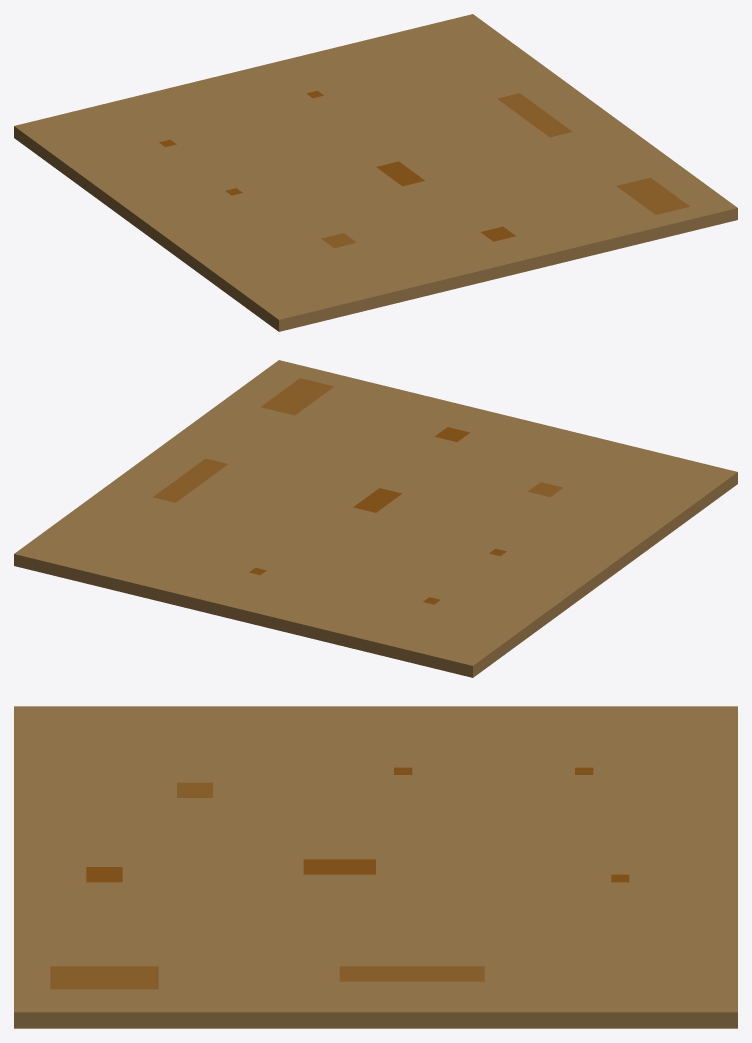
Rendered from floor_6.obj.
3 renders of one model, top to bottom at view 1: azimuth 30°, elevation 25°; view 2: azimuth 150°, elevation 25°; view 3: azimuth 270°, elevation 25°, orthographic. The views are drawn at different scales.
Size of the model in its own units: 40 by 1 by 40.
1 material, 1 textured.
